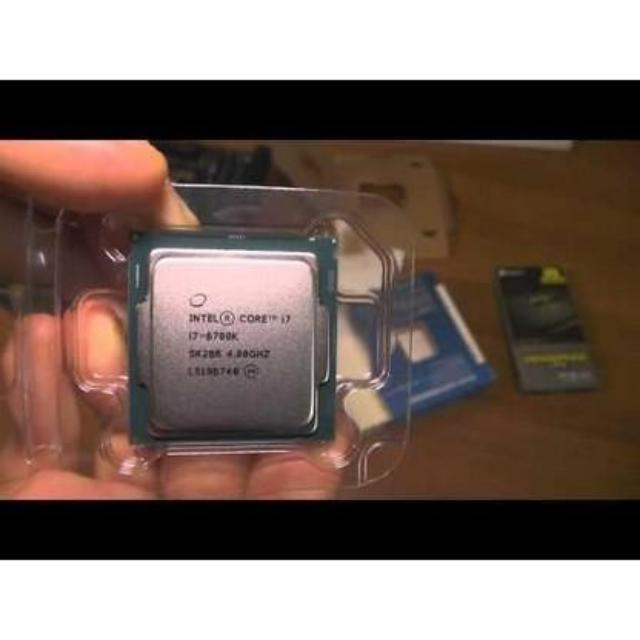CPU: (134, 236, 334, 436)
